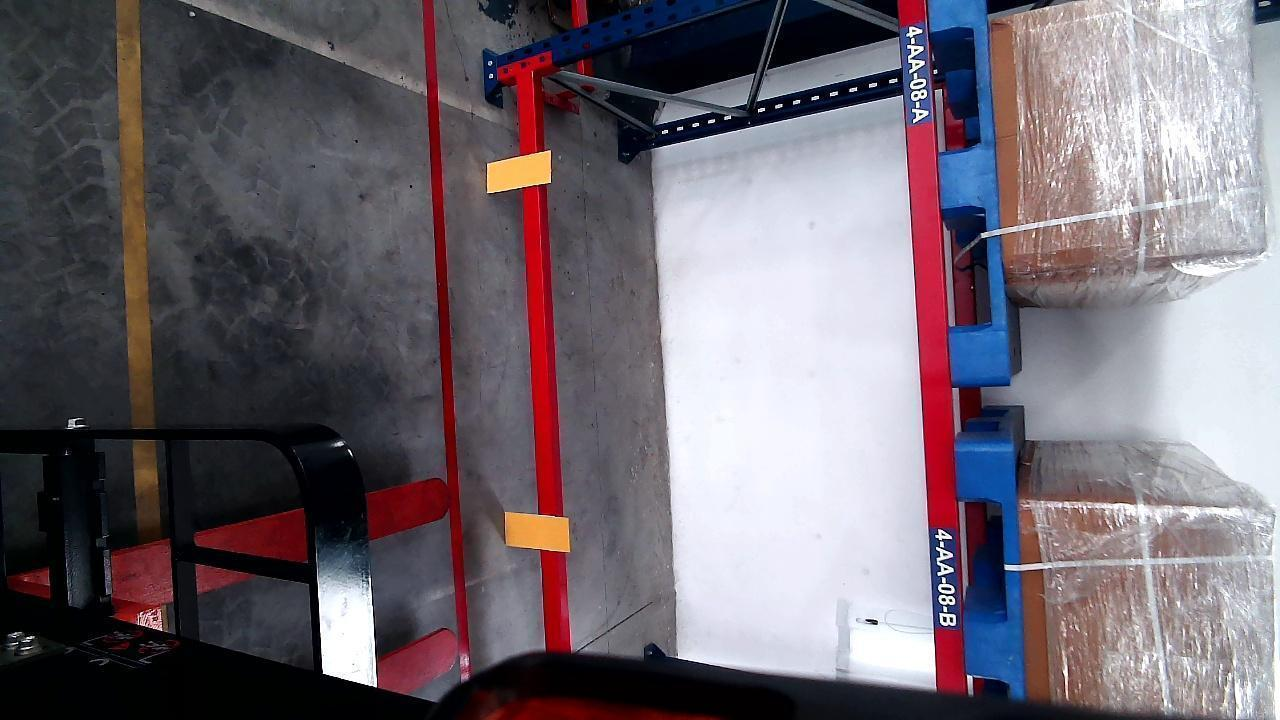red_line: (421, 0, 471, 680)
yellow_line: (117, 0, 164, 534)
